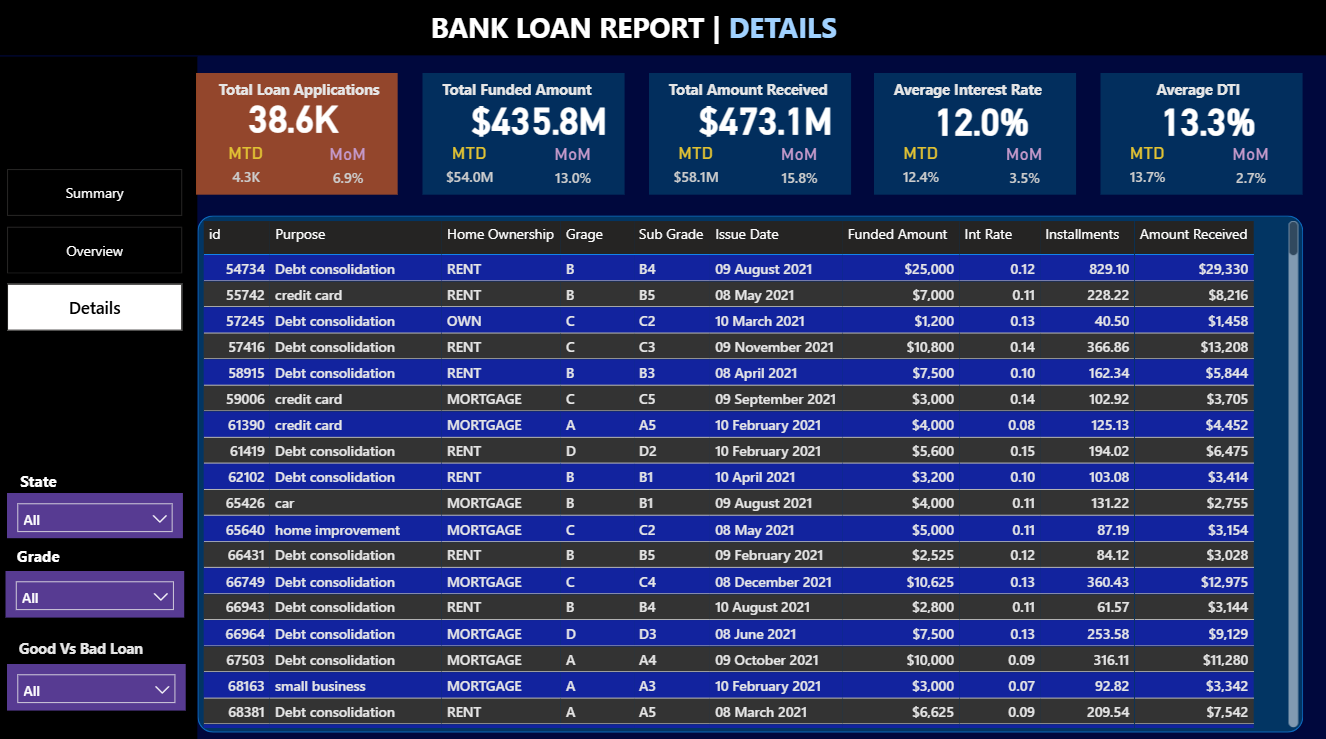

What the dashboard file says about the page in this screenshot:
{"tool":"powerbi","page":{"name":"Details","canvas":[1280,720],"ordinal":2},"visuals":[{"type":"shape","box":[0,55.5,194.2,664.5],"z":0},{"type":"shape","box":[410.2,71.3,193.7,117],"z":0,"group":"g3"},{"type":"shape","box":[626.7,71.3,193.7,117],"z":0,"group":"g4"},{"type":"shape","box":[843.2,71.3,193.7,117],"z":0,"group":"g5"},{"type":"shape","box":[192.3,71.4,193.7,117],"z":0,"group":"g1"},{"type":"shape","box":[1059.7,71.9,193.7,117],"z":0,"group":"g6"},{"type":"shape","box":[0,0,1280.3,55],"z":1000},{"type":"card","fields":{"Values":["bank_loan_data.Total Loan Application"]},"box":[228.8,76.7,113.6,69.9],"z":1000,"group":"g1"},{"type":"card","fields":{"Values":["bank_loan_data.Total Funded Amount"]},"box":[447.1,82,147.9,64.6],"z":1000,"group":"g3"},{"type":"card","fields":{"Values":["bank_loan_data.Total Amount Received"]},"box":[663.6,82,147.9,64.6],"z":1000,"group":"g4"},{"type":"card","fields":{"Values":["bank_loan_data.Avg Interest Rate"]},"box":[872.1,82.5,147.9,64.6],"z":1000,"group":"g5"},{"type":"card","fields":{"Values":["bank_loan_data.Avg DTI"]},"box":[1088.6,83.1,147.9,64.6],"z":1000,"group":"g6"},{"type":"textbox","box":[204.7,71.3,197.8,40.3],"z":2000,"group":"g1"},{"type":"textbox","box":[420.9,71.3,197.8,40.3],"z":2000,"group":"g3"},{"type":"textbox","box":[637.4,71.3,197.8,40.3],"z":2000,"group":"g4"},{"type":"textbox","box":[853.9,71.3,197.8,40.3],"z":2000,"group":"g5"},{"type":"textbox","box":[1070.1,71.3,169.4,40.3],"z":2000,"group":"g6"},{"type":"textbox","box":[12.1,447.4,95.3,31.4],"z":2000,"group":"g7"},{"type":"textbox","box":[12.1,517.4,83.2,31.4],"z":2000},{"type":"card","title":"MTD","fields":{"Values":["bank_loan_data.MTD Loan Applications"]},"box":[204.7,137.2,69.5,51.1],"z":3000,"group":"g1"},{"type":"card","title":"MTD","fields":{"Values":["bank_loan_data.MTD Funded Applications"]},"box":[420.9,137.2,69.5,51.1],"z":3000,"group":"g3"},{"type":"card","title":"MTD","fields":{"Values":["bank_loan_data.MTD Total Amount Received"]},"box":[637.4,137.2,69.5,51.1],"z":3000,"group":"g4"},{"type":"card","title":"MTD","fields":{"Values":["bank_loan_data.MTD Average Interest Rate"]},"box":[853.9,137.2,69.5,51.1],"z":3000,"group":"g5"},{"type":"card","title":"MTD","fields":{"Values":["bank_loan_data.MTD Average DTI"]},"box":[1070.4,137.8,69.5,51.1],"z":3000,"group":"g6"},{"type":"textbox","box":[9.6,607.8,156.8,31.4],"z":3000},{"type":"group","id":"g1","title":"Group 2","box":[192.3,71.3,210.2,117.1],"z":3005,"group":"g2"},{"type":"card","title":"MoM","fields":{"Values":["bank_loan_data.MoM Loan Applications"]},"box":[303,138.2,69.5,49.8],"z":4000,"group":"g1"},{"type":"card","title":"MoM","fields":{"Values":["bank_loan_data.MoM Total Funded Amount"]},"box":[519.1,138.2,69.5,49.8],"z":4000,"group":"g3"},{"type":"card","title":"MoM","fields":{"Values":["bank_loan_data.MoM Total Amount Received"]},"box":[735.6,138.2,69.5,49.8],"z":4000,"group":"g4"},{"type":"card","title":"MoM","fields":{"Values":["bank_loan_data.MoM Average Interest Rate"]},"box":[952.1,138.2,69.5,49.8],"z":4000,"group":"g5"},{"type":"card","title":"MoM","fields":{"Values":["bank_loan_data.MoM Average DTI"]},"box":[1168.6,138.9,69.5,49.8],"z":4000,"group":"g6"},{"type":"shape","box":[194.2,208.6,1060.1,495.7],"z":4000},{"type":"textbox","box":[412.9,4,520.4,45.7],"z":5000},{"type":"group","id":"g2","title":"Group 1","box":[192.3,71.3,210.2,117.1],"z":6000},{"type":"group","id":"g3","title":"Group 2","box":[410.2,71.3,208.4,117],"z":7000},{"type":"group","id":"g4","title":"Group 2","box":[626.7,71.3,208.4,117],"z":8000},{"type":"group","id":"g5","title":"Group 2","box":[843.2,71.3,208.4,117],"z":9000},{"type":"group","id":"g6","title":"Group 2","box":[1059.7,71.3,193.7,117],"z":10000},{"type":"slicer","fields":{"Values":["bank_loan_data.address_state"]},"box":[12.1,474,168.8,43.4],"z":11000},{"type":"slicer","fields":{"Values":["bank_loan_data.grade"]},"box":[9.6,548.7,171.3,44.6],"z":12000},{"type":"slicer","fields":{"Values":["bank_loan_data.Good Vs Bad Loan"]},"box":[12.1,639.2,171.3,44.6],"z":13000},{"type":"group","id":"g7","title":"Group 2","box":[12.1,447.4,95.3,31.4],"z":14000},{"type":"tableEx","fields":{"Values":["bank_loan_data.id","bank_loan_data.purpose","bank_loan_data.home_ownership","bank_loan_data.grade","bank_loan_data.sub_grade","bank_loan_data.issue_date","bank_loan_data.Total Funded Amount","Sum(bank_loan_data.int_rate)","Sum(bank_loan_data.installment)","bank_loan_data.Total Amount Received"]},"box":[194.2,208.6,1060.1,495.7],"z":15000},{"type":"pageNavigator","box":[12.1,164,168.8,158],"z":16000}]}

Visuals, with their boxes in screenshot pixels (x1, y1, x2, y2), scaled from the page's 1280x720 canvas onto the 1326x739 screenshot:
shape: Rect(0, 57, 201, 738)
shape: Rect(425, 73, 626, 193)
shape: Rect(649, 73, 850, 193)
shape: Rect(874, 73, 1074, 193)
shape: Rect(199, 73, 400, 193)
shape: Rect(1098, 74, 1298, 194)
shape: Rect(0, 0, 1325, 56)
card - bank_loan_data.Total Loan Application: Rect(237, 79, 355, 150)
card - bank_loan_data.Total Funded Amount: Rect(463, 84, 616, 150)
card - bank_loan_data.Total Amount Received: Rect(687, 84, 841, 150)
card - bank_loan_data.Avg Interest Rate: Rect(903, 85, 1057, 151)
card - bank_loan_data.Avg DTI: Rect(1128, 85, 1281, 152)
textbox: Rect(212, 73, 417, 115)
textbox: Rect(436, 73, 641, 115)
textbox: Rect(660, 73, 865, 115)
textbox: Rect(885, 73, 1089, 115)
textbox: Rect(1109, 73, 1284, 115)
textbox: Rect(13, 459, 111, 491)
textbox: Rect(13, 531, 99, 563)
"MTD" card: Rect(212, 141, 284, 193)
"MTD" card: Rect(436, 141, 508, 193)
"MTD" card: Rect(660, 141, 732, 193)
"MTD" card: Rect(885, 141, 957, 193)
"MTD" card: Rect(1109, 141, 1181, 194)
textbox: Rect(10, 624, 172, 656)
"Group 2" group: Rect(199, 73, 417, 193)
"MoM" card: Rect(314, 142, 386, 193)
"MoM" card: Rect(538, 142, 610, 193)
"MoM" card: Rect(762, 142, 834, 193)
"MoM" card: Rect(986, 142, 1058, 193)
"MoM" card: Rect(1211, 143, 1283, 194)
shape: Rect(201, 214, 1299, 723)
textbox: Rect(428, 4, 967, 51)
"Group 1" group: Rect(199, 73, 417, 193)
"Group 2" group: Rect(425, 73, 641, 193)
"Group 2" group: Rect(649, 73, 865, 193)
"Group 2" group: Rect(874, 73, 1089, 193)
"Group 2" group: Rect(1098, 73, 1298, 193)
slicer - bank_loan_data.address_state: Rect(13, 487, 187, 531)
slicer - bank_loan_data.grade: Rect(10, 563, 187, 609)
slicer - bank_loan_data.Good Vs Bad Loan: Rect(13, 656, 190, 702)
"Group 2" group: Rect(13, 459, 111, 491)
tableEx - bank_loan_data.id x bank_loan_data.purpose: Rect(201, 214, 1299, 723)
pageNavigator: Rect(13, 168, 187, 330)
